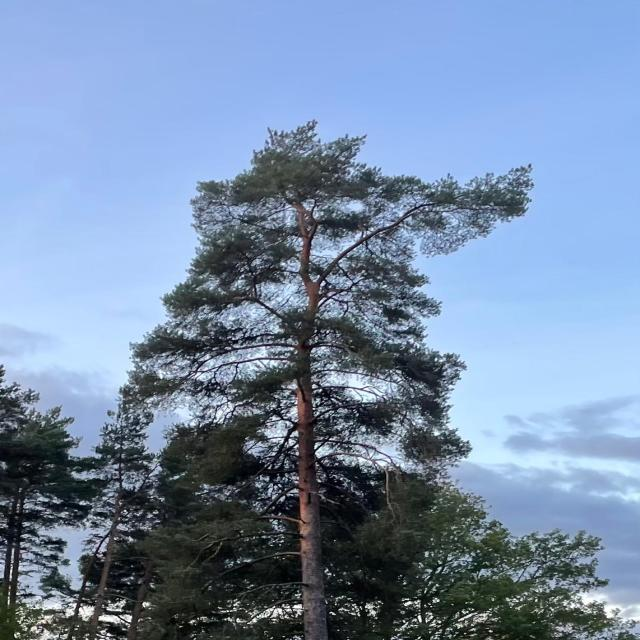pine: (99, 112, 563, 630)
